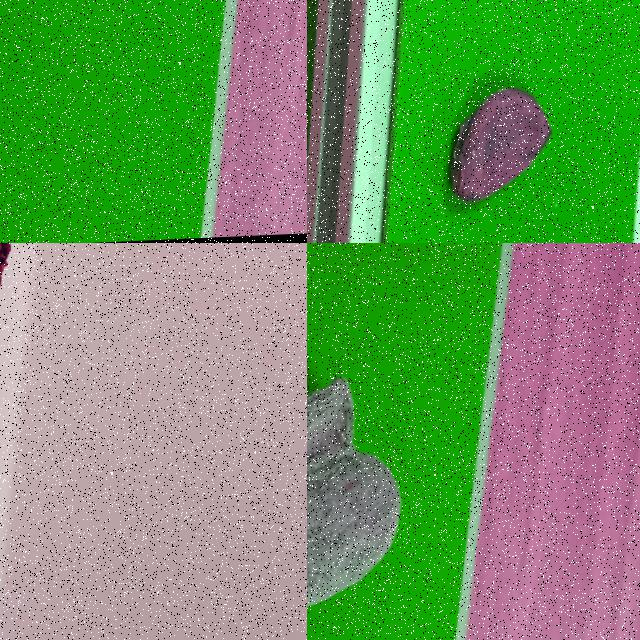Agglomerated_cocoabeans: (307, 295, 441, 639)
Flat_cocoabeans: (427, 32, 593, 233)
